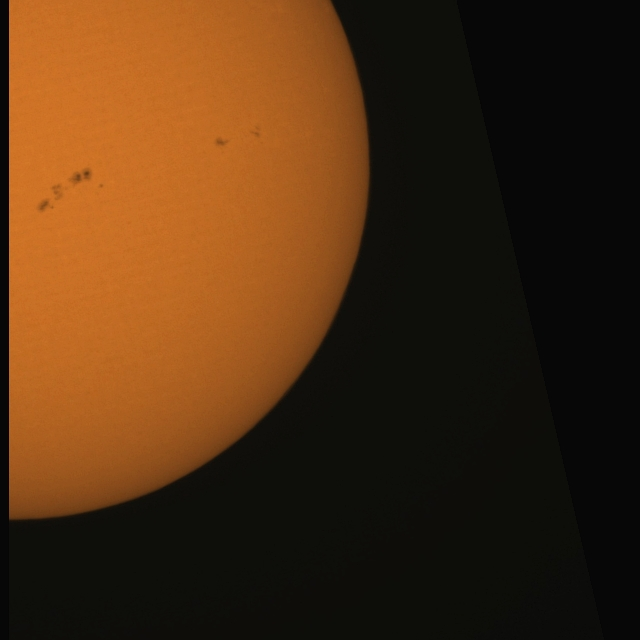sunspot: (35, 173, 85, 213), (48, 166, 96, 203), (213, 136, 231, 150), (249, 124, 262, 143), (98, 183, 104, 190)
